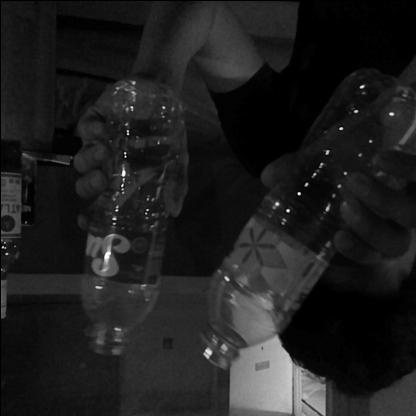plastic_bottles: (190, 66, 416, 367), (74, 74, 184, 359)
